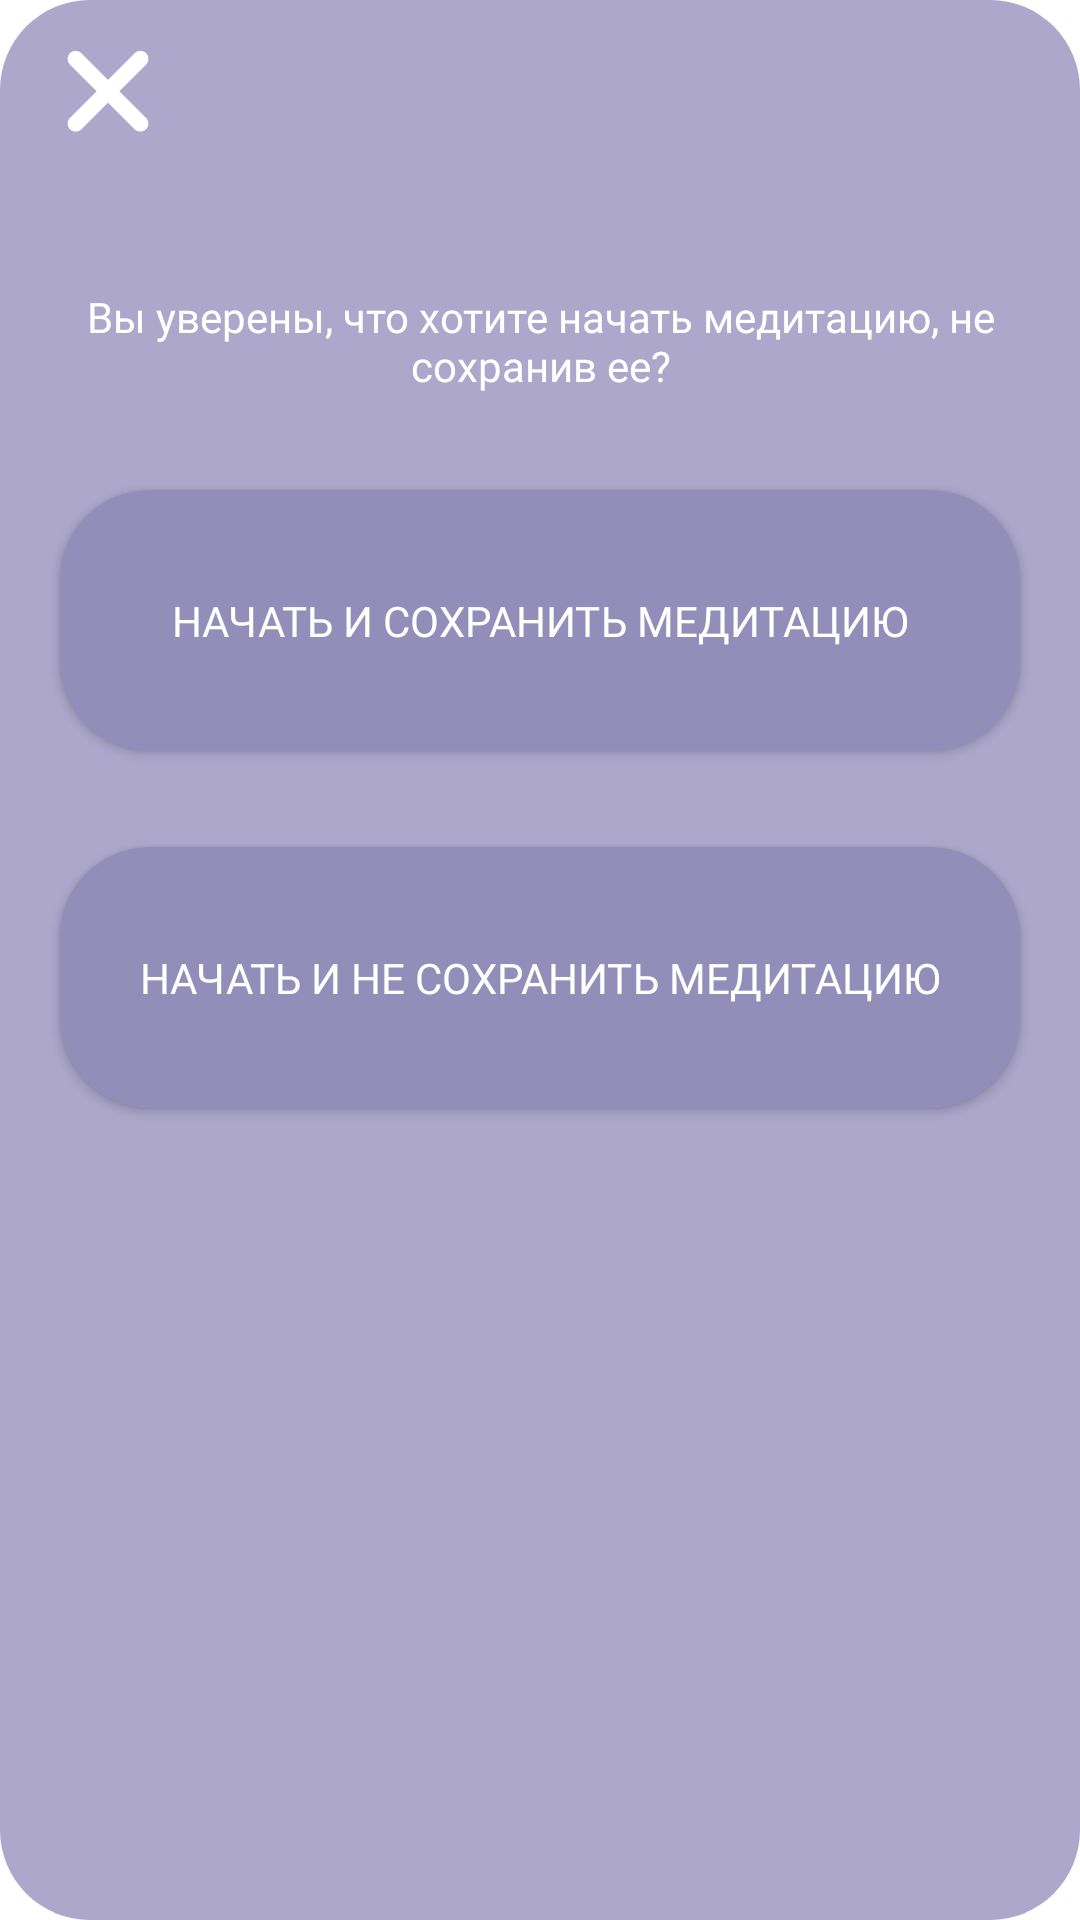

Icons on this 1080 × 1920 Android screen, each with its box as (x1, y1, x2, y2):
cross: (67, 51, 148, 132)
